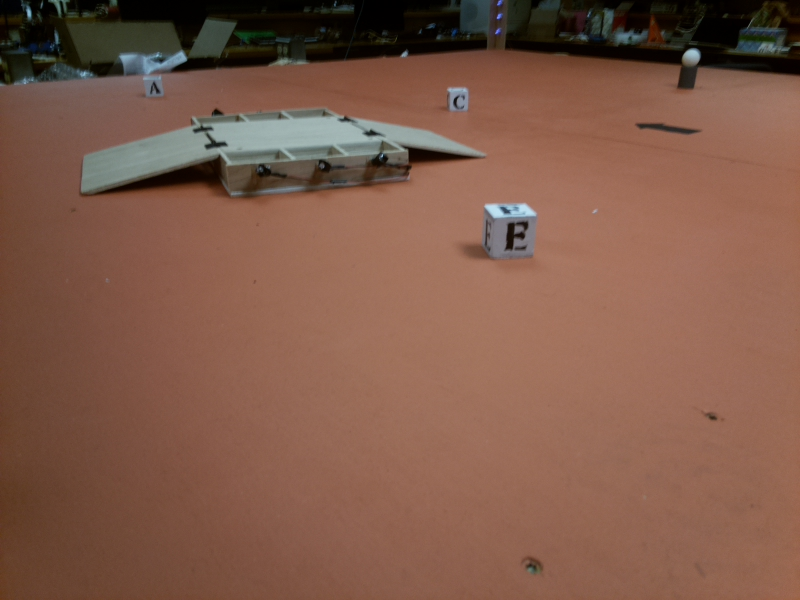blockA: (141, 77, 168, 99)
blockC: (446, 88, 473, 114)
blockE: (479, 202, 540, 263)
corner: (488, 1, 511, 55)
obstacle: (678, 47, 701, 92)
side: (215, 153, 419, 197), (189, 108, 346, 124)
slope: (76, 119, 217, 198), (358, 116, 488, 163)
start: (635, 119, 706, 139)
